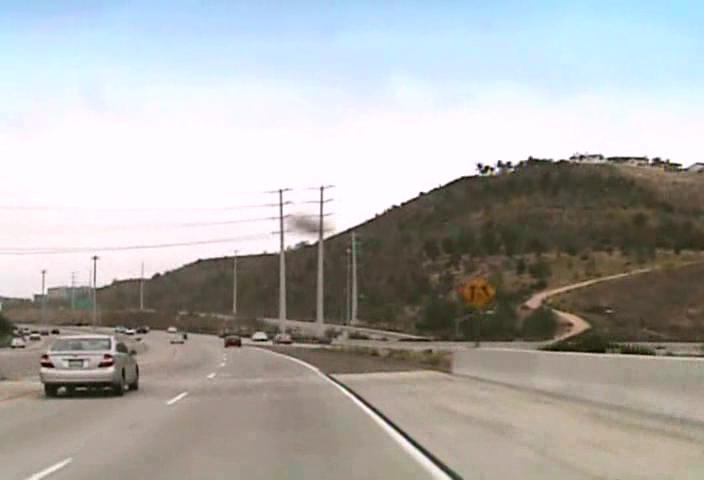addedLane: (457, 272, 497, 309)
